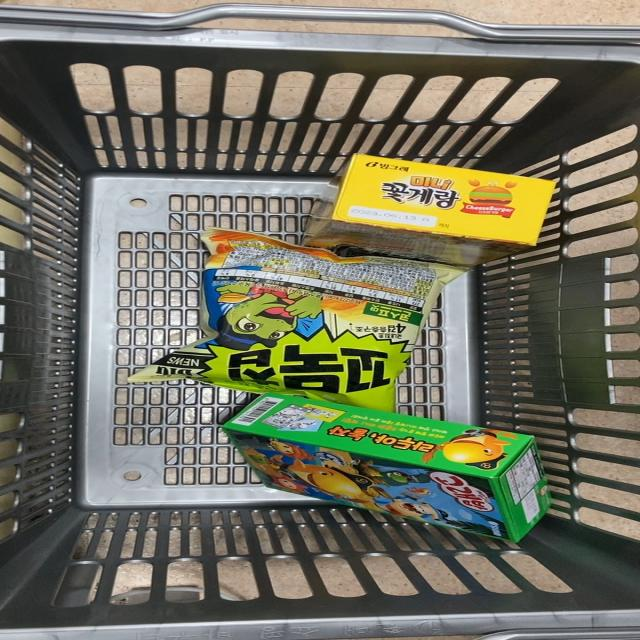ggobukchip: (150, 233, 427, 399)
goraebob: (224, 391, 553, 540)
minicrab: (312, 161, 568, 260)
